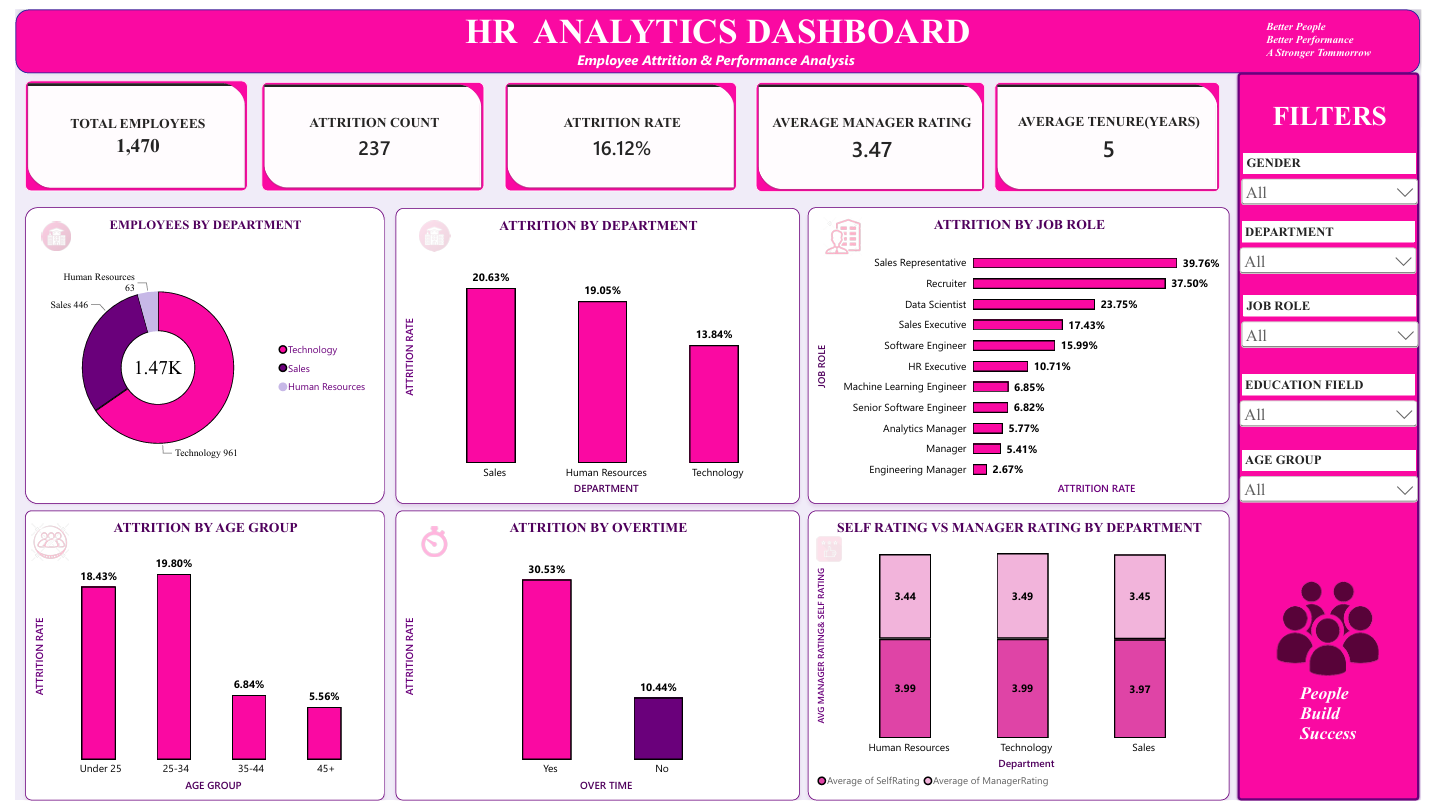

This screenshot's page, from the dashboard's own definition file:
{"tool":"powerbi","page":{"name":"Page 2","canvas":[1920,1080],"ordinal":1},"visuals":[{"type":"textbox","box":[0,0,1918.2,86.9],"z":0},{"type":"cardVisual","fields":{"Data":["SatisfiedLevel.TOTAL EMPLOYEES"]},"box":[12.8,97.2,304.5,150.4],"z":1000},{"type":"cardVisual","fields":{"Data":["SatisfiedLevel.ATTRITION COUNT"]},"box":[335.7,99,304.5,148.6],"z":2000},{"type":"cardVisual","fields":{"Data":["SatisfiedLevel.ATTRITION RATE"]},"box":[667.7,99,317.3,148.6],"z":3000},{"type":"columnChart","title":"ATTRITION BY DEPARTMENT","fields":{"Category":["Employee.Department"],"Y":["SatisfiedLevel.ATTRITION RATE"]},"box":[519.1,271.5,552.1,403.5],"z":4000},{"type":"barChart","title":"ATTRITION BY JOB ROLE","fields":{"Category":["Employee.JobRole"],"Y":["SatisfiedLevel.ATTRITION RATE"]},"box":[1082.2,269.6,576,405.4],"z":5000},{"type":"clusteredColumnChart","title":"ATTRITION BY OVERTIME","fields":{"Category":["Employee.OverTime"],"Y":["SatisfiedLevel.ATTRITION RATE"]},"box":[519.1,684.2,552.1,396.2],"z":6000},{"type":"textbox","box":[1668,271,252,367],"z":7000},{"type":"textbox","box":[1669.2,86.2,248,994.2],"z":8000},{"type":"columnChart","title":"ATTRITION BY AGE GROUP","fields":{"Category":["Employee.age group"],"Y":["SatisfiedLevel.ATTRITION RATE"]},"box":[12.8,684.2,491.6,396.2],"z":9000},{"type":"textbox","box":[1669.2,122.9,251.3,55],"z":10000},{"type":"slicer","fields":{"Values":["Employee.Gender"]},"box":[1669.2,196.3,251.3,73.4],"z":11000},{"type":"slicer","fields":{"Values":["Employee.Department"]},"box":[1666.7,289.5,251.5,81.4],"z":12000},{"type":"slicer","fields":{"Values":["Employee.JobRole"]},"box":[1669.2,390.7,251.5,81.4],"z":13000},{"type":"slicer","fields":{"Values":["Employee.EducationField"]},"box":[1667.3,498.9,251.5,77.8],"z":14000},{"type":"image","box":[1718.7,768.6,146.7,152.2],"z":15000},{"type":"textbox","box":[1753.5,920.8,100.9,104.6],"z":16000},{"type":"textbox","box":[1708.3,14.5,146.6,72.4],"z":17000},{"type":"columnChart","title":"SELF RATING VS MANAGER RATING BY DEPARTMENT","fields":{"Category":["Employee.Department"],"Y":["Avg(PerformanceRating.SelfRating)","Avg(PerformanceRating.ManagerRating)"]},"box":[1082.2,684.2,576,396.2],"z":18000},{"type":"donutChart","title":"EMPLOYEES BY DEPARTMENT","fields":{"Category":["Employee.Department"],"Y":["CountNonNull(Employee.EmployeeID)"]},"box":[12.8,269.6,491.6,405.4],"z":19000},{"type":"slicer","fields":{"Values":["Employee.age group"]},"box":[1667.3,601.6,253.1,73.4],"z":20000},{"type":"image","box":[34.9,289.8,42.2,40.4],"z":22000},{"type":"image","box":[535.6,288,71.5,42.2],"z":23000},{"type":"image","box":[22,687.8,51.4,78.9],"z":24000},{"type":"image","box":[1098.7,284.3,62.4,51.4],"z":25000},{"type":"image","box":[535.6,706.2,71.5,42.2],"z":26000},{"type":"image","box":[1093.2,719,36.7,34.9],"z":27000},{"type":"cardVisual","fields":{"Data":["Employee.AVERAGE TENURE"]},"box":[1337.2,99,308.2,150.4],"z":28000},{"type":"cardVisual","fields":{"Data":["SatisfiedLevel.AVERAGE PERFORMANCE RATING"]},"box":[1010.7,99,313.7,150.4],"z":29000}]}

Visuals, with their boxes in screenshot pixels (x1, y1, x2, y2), scaled from the page's 1920x1080 canvas onto the 1437x812 screenshot:
textbox: [0,0,1436,65]
cardVisual - SatisfiedLevel.TOTAL EMPLOYEES: [10,73,237,186]
cardVisual - SatisfiedLevel.ATTRITION COUNT: [251,74,479,186]
cardVisual - SatisfiedLevel.ATTRITION RATE: [500,74,737,186]
"ATTRITION BY DEPARTMENT" columnChart: [389,204,802,508]
"ATTRITION BY JOB ROLE" barChart: [810,203,1241,508]
"ATTRITION BY OVERTIME" clusteredColumnChart: [389,514,802,811]
textbox: [1248,204,1436,480]
textbox: [1249,65,1435,811]
"ATTRITION BY AGE GROUP" columnChart: [10,514,378,811]
textbox: [1249,92,1436,134]
slicer - Employee.Gender: [1249,148,1436,203]
slicer - Employee.Department: [1247,218,1436,279]
slicer - Employee.JobRole: [1249,294,1436,355]
slicer - Employee.EducationField: [1248,375,1436,434]
image: [1286,578,1396,692]
textbox: [1312,692,1388,771]
textbox: [1279,11,1388,65]
"SELF RATING VS MANAGER RATING BY DEPARTMENT" columnChart: [810,514,1241,811]
"EMPLOYEES BY DEPARTMENT" donutChart: [10,203,378,508]
slicer - Employee.age group: [1248,452,1436,508]
image: [26,218,58,248]
image: [401,217,454,248]
image: [16,517,55,576]
image: [822,214,869,252]
image: [401,531,454,563]
image: [818,541,846,567]
cardVisual - Employee.AVERAGE TENURE: [1001,74,1231,188]
cardVisual - SatisfiedLevel.AVERAGE PERFORMANCE RATING: [756,74,991,188]
